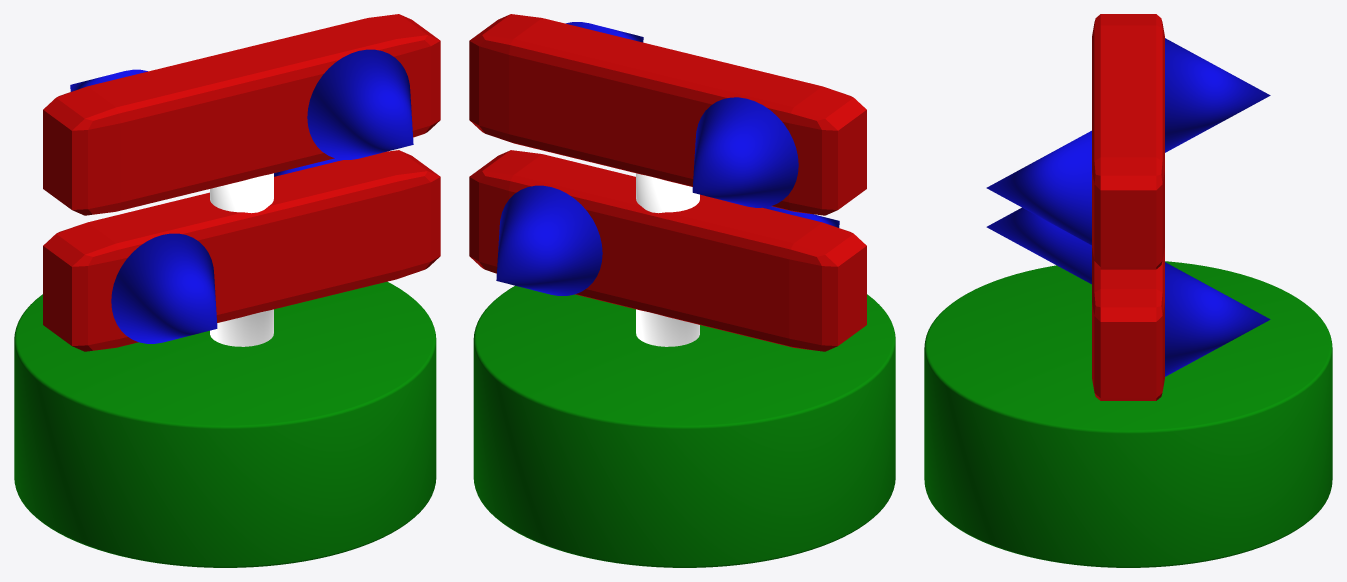
The picture shows the model from 3 angles, left to right: view 1: azimuth 30°, elevation 25°; view 2: azimuth 150°, elevation 25°; view 3: azimuth 270°, elevation 25°; orthographic projection. The views are drawn at different scales.
Parts seen in each view (by area): view 1: base, bar_up, bar_lo, cone_up_1, cone_lo_1, post; view 2: base, bar_up, bar_lo, cone_lo_-1, cone_up_-1, post; view 3: base, bar_up, bar_lo, cone_up_1, cone_lo_-1, cone_up_-1, cone_lo_1.
Part boxes in pixels (x1,y1,x2,y2): base: (14, 281, 436, 567); bar_up: (43, 14, 440, 215); bar_lo: (43, 150, 440, 351); cone_up_1: (307, 49, 413, 159); cone_lo_1: (111, 233, 217, 343); post: (210, 173, 273, 346); base: (473, 285, 895, 567); bar_up: (469, 14, 866, 215); bar_lo: (469, 150, 866, 351); cone_lo_-1: (496, 185, 602, 295); cone_up_-1: (692, 97, 798, 207); post: (636, 173, 699, 346); base: (924, 261, 1332, 567); bar_up: (1092, 14, 1164, 269); bar_lo: (1092, 248, 1164, 400); cone_up_1: (986, 130, 1091, 245); cone_lo_-1: (1165, 262, 1270, 376); cone_up_-1: (1165, 38, 1270, 152); cone_lo_1: (986, 207, 1091, 284).
Bounding box in the file's own units: 2.31 × 2.38 × 2.2.
